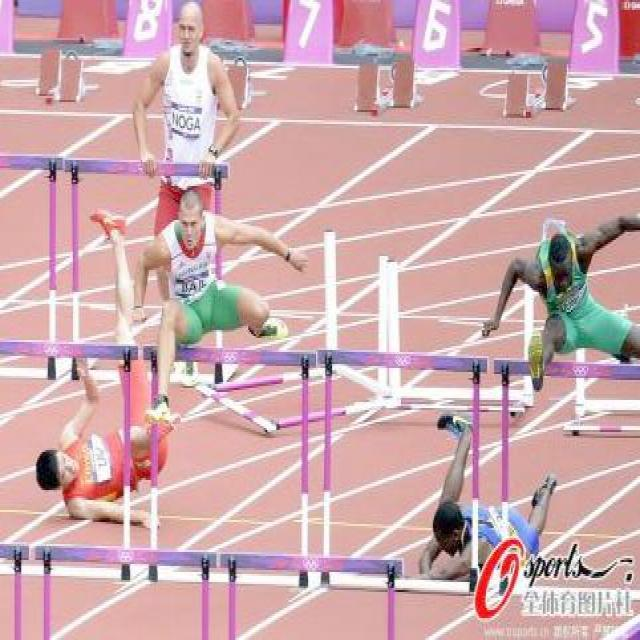fall: (35, 362, 172, 526), (414, 442, 566, 564)
